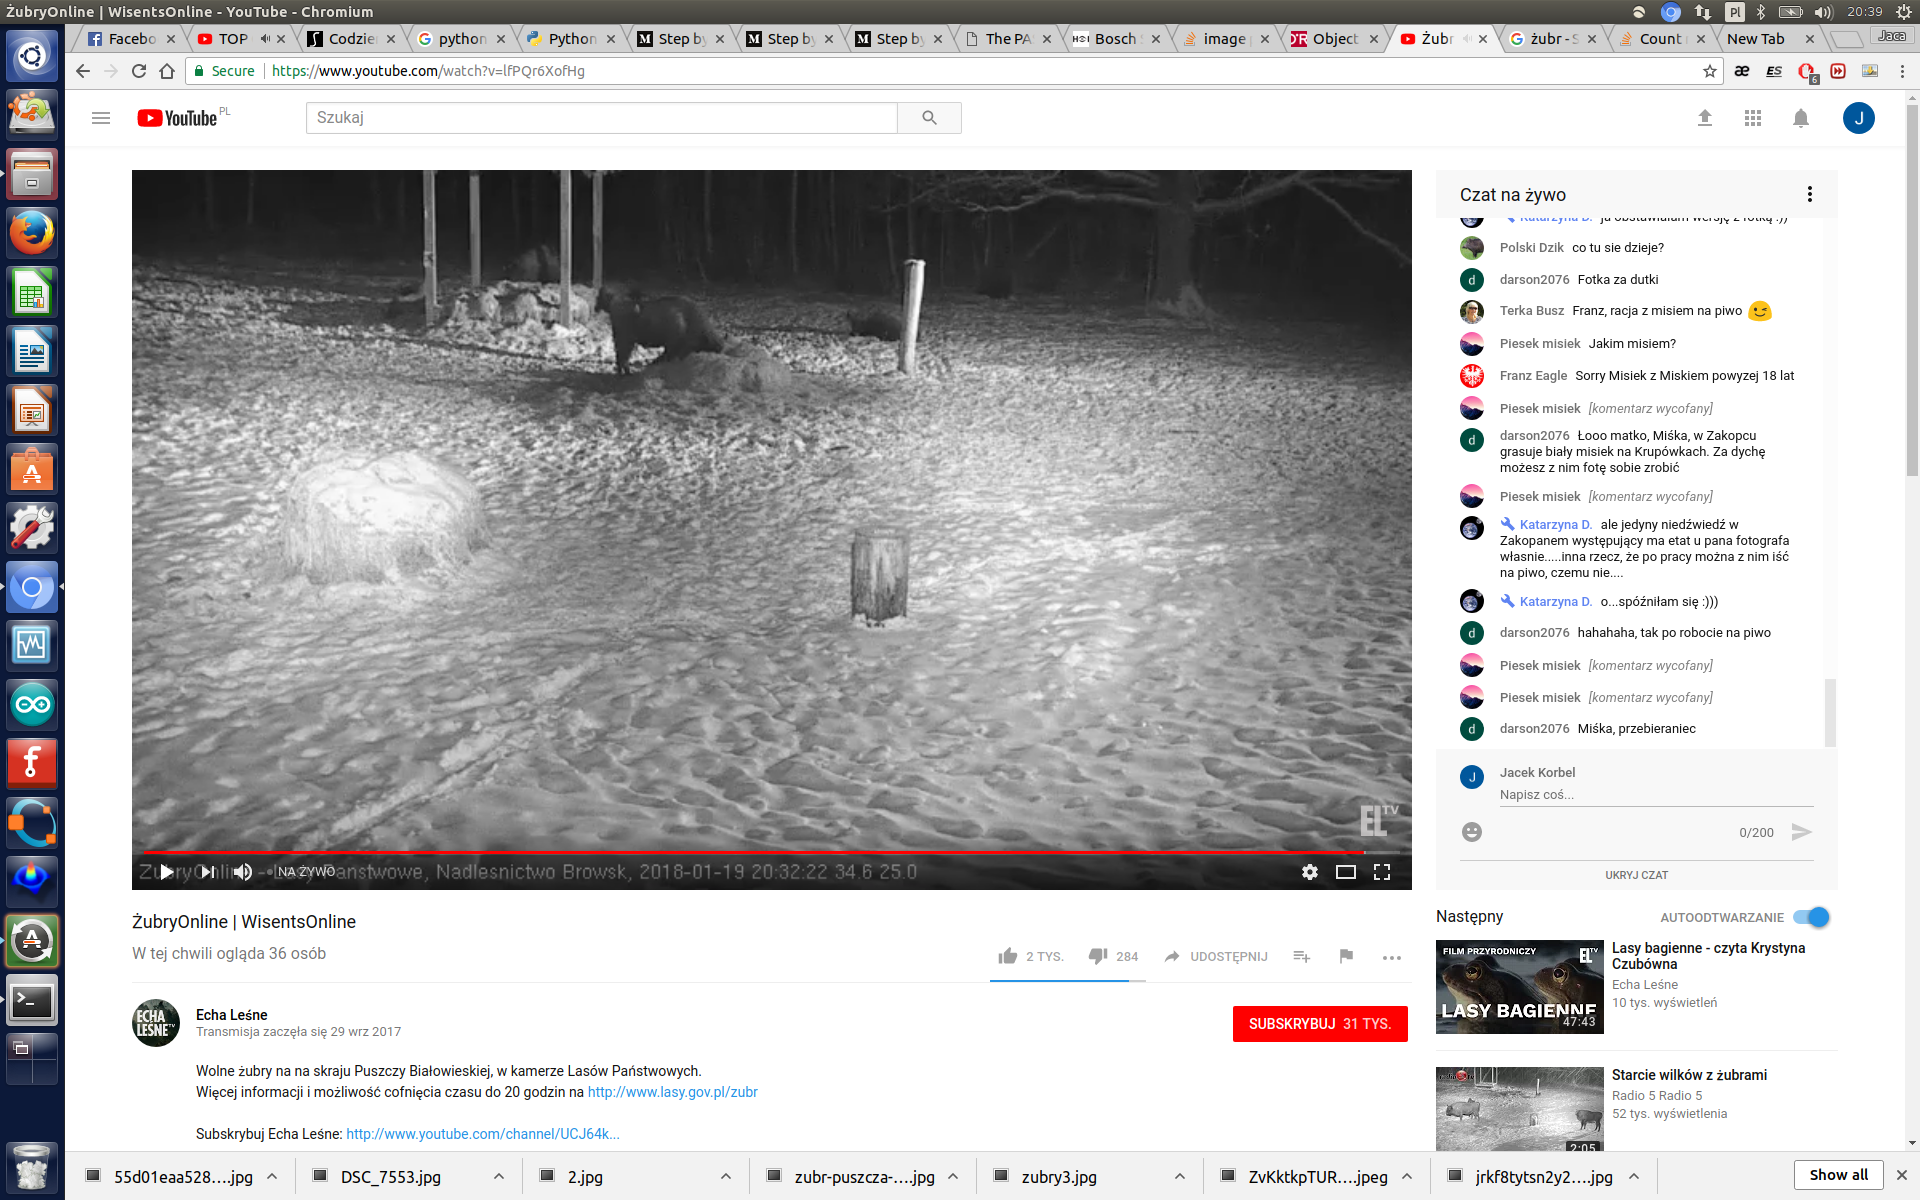zubr: (599, 281, 740, 387)
